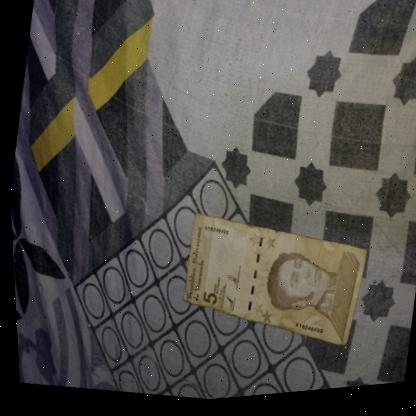five-front-vef: (169, 202, 371, 364)
